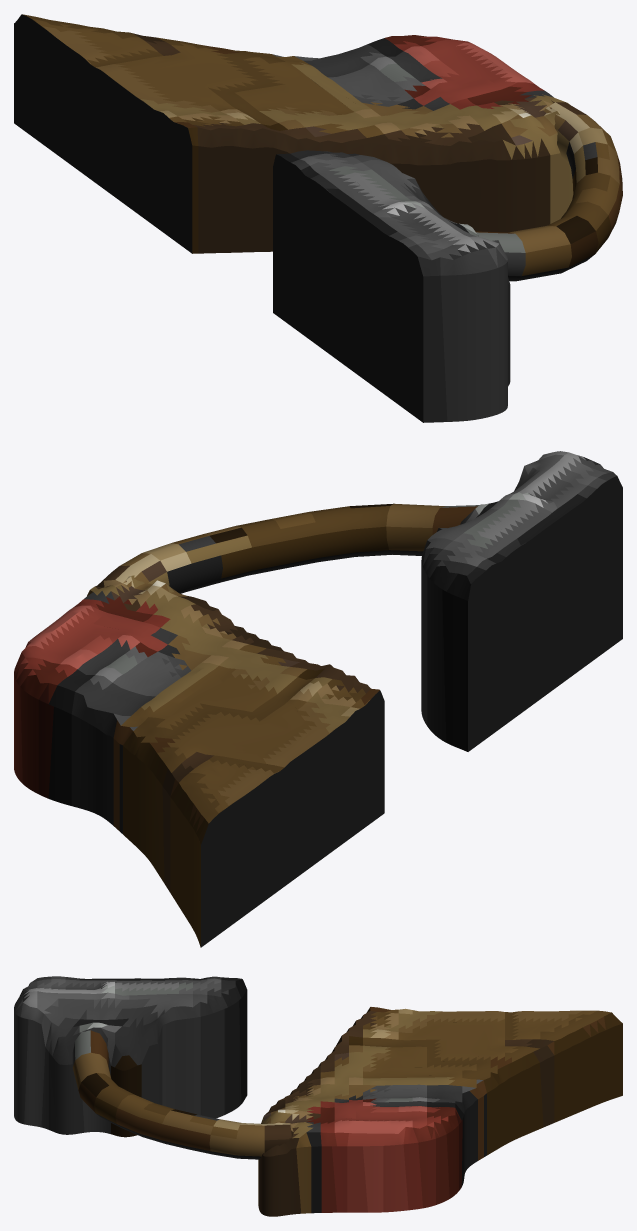
The model's file is tusk_boss_small_123.glb.
3 views of the same model, one above another, from view 1: azimuth 30°, elevation 25°; view 2: azimuth 150°, elevation 25°; view 3: azimuth 270°, elevation 25° (orthographic). The views are drawn at different scales.
Visible parts, largest first — view 1: tusk_boss_small_123_plates_small; view 2: tusk_boss_small_123_plates_small; view 3: tusk_boss_small_123_plates_small.
Boxes of the visible parts, x1=… form: tusk_boss_small_123_plates_small: x1=14, y1=14, x2=622, y2=422; tusk_boss_small_123_plates_small: x1=14, y1=451, x2=622, y2=947; tusk_boss_small_123_plates_small: x1=14, y1=976, x2=622, y2=1216.
Size of the model in its own units: 11.12 by 5.29 by 23.63.
